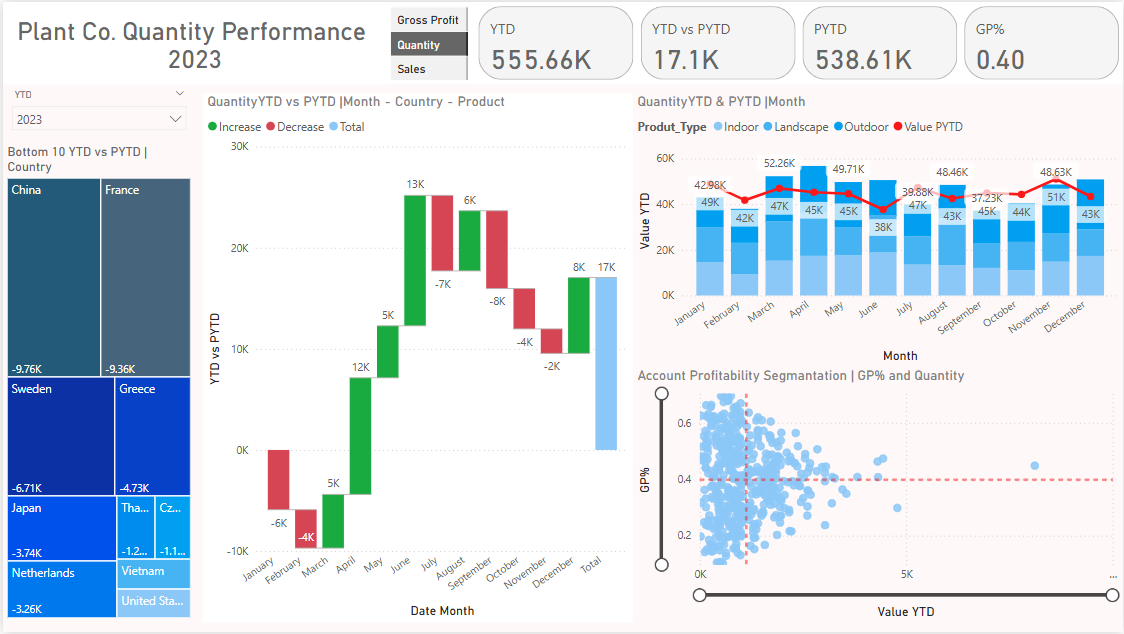

What the dashboard file says about the page in this screenshot:
{"tool":"powerbi","page":{"name":"Performance Report","canvas":[1280,720],"ordinal":0},"visuals":[{"type":"cardVisual","fields":{"Data":["_Measures.S_YTD","_Measures.YTD vs PYTD","_Measures.S_PYTD","_Measures.GP%"]},"box":[537.9,0,742.4,94.7],"z":0},{"type":"slicer","fields":{"Values":["Dim_Date.Date.Variation.Date Hierarchy.Year"]},"box":[0,94.7,219.6,68.6],"z":1000},{"type":"advancedSlicerVisual","fields":{"Values":["Slc_Values.Values"]},"box":[439.1,1.4,98.8,94.7],"z":2000},{"type":"treemap","title":"Bottom 10 YTD vs PYTD | Country","fields":{"Group":["Dim_Account.country"],"Values":["_Measures.YTD vs PYTD"]},"box":[0,163.3,219.6,546.1],"z":3000},{"type":"waterfallChart","fields":{"Y":["_Measures.YTD vs PYTD"],"Category":["Dim_Date.Date.Variation.Date Hierarchy.Month","Dim_Account.country","Dim-Product.Produt_Type","Dim-Product.Product_Name_id"]},"box":[229.2,104.3,491.3,605.1],"z":4000},{"type":"lineStackedColumnComboChart","fields":{"Y":["_Measures.S_YTD"],"Y2":["_Measures.S_PYTD"],"Category":["Dim_Date.Date.Variation.Date Hierarchy.Month","Dim_Date.Date.Variation.Date Hierarchy.Quarter"],"Series":["Dim-Product.Produt_Type"]},"box":[720.4,104.3,559.9,312.9],"z":5000},{"type":"scatterChart","fields":{"Y":["_Measures.GP%"],"X":["_Measures.S_YTD"],"Category":["Dim_Account.Account"]},"box":[720.4,417.2,559.9,292.3],"z":6000},{"type":"card","fields":{"Values":["_Measures._Report title"]},"box":[0,0,439.1,94.7],"z":7000}]}

Visuals, with their boxes in screenshot pixels (x1, y1, x2, y2), scaled from the page's 1280x720 canvas onto the 1124x634 screenshot:
cardVisual - _Measures.S_YTD x _Measures.YTD vs PYTD: bbox=(472, 0, 1123, 83)
slicer - Dim_Date.Date.Variation.Date Hierarchy.Year: bbox=(0, 83, 193, 144)
advancedSlicerVisual - Slc_Values.Values: bbox=(386, 1, 472, 85)
"Bottom 10 YTD vs PYTD | Country" treemap: bbox=(0, 144, 193, 625)
waterfallChart - _Measures.YTD vs PYTD x Dim_Date.Date.Variation.Date Hierarchy.Month: bbox=(201, 92, 633, 625)
lineStackedColumnComboChart - _Measures.S_YTD x _Measures.S_PYTD: bbox=(633, 92, 1123, 367)
scatterChart - _Measures.GP% x _Measures.S_YTD: bbox=(633, 367, 1123, 625)
card - _Measures._Report title: bbox=(0, 0, 386, 83)
